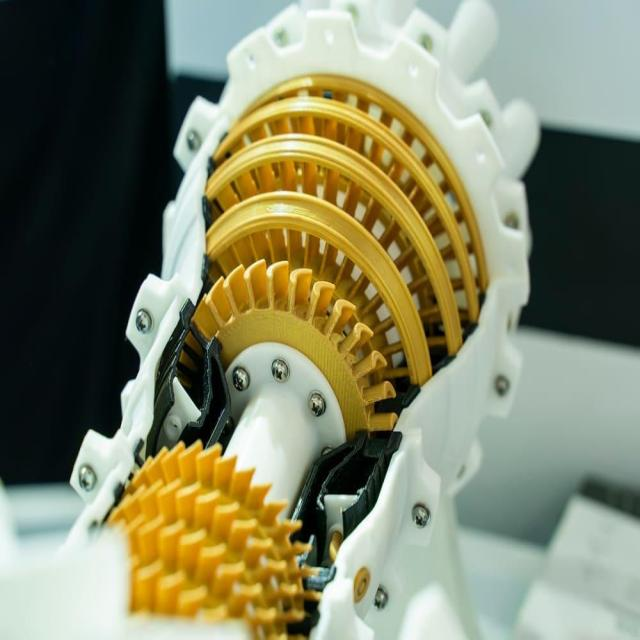Without deffect: (73, 2, 580, 640)
